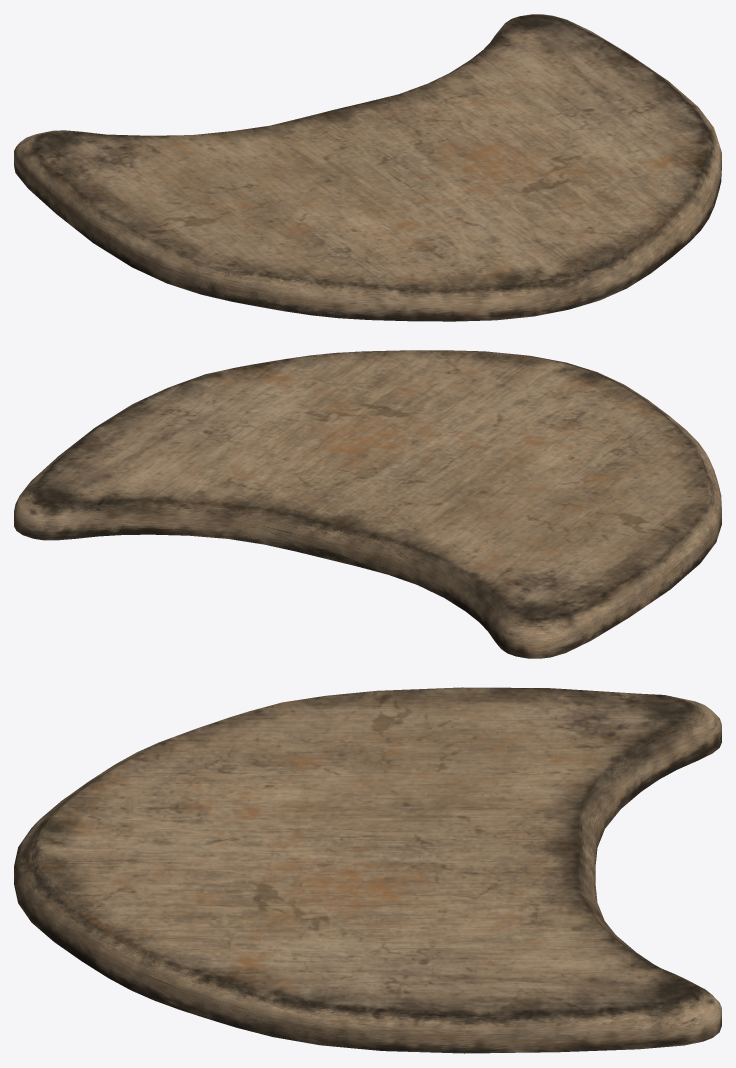
The model's file is Arena 1.fbx.
3 renders of one model, top to bottom at view 1: azimuth 30°, elevation 25°; view 2: azimuth 150°, elevation 25°; view 3: azimuth 270°, elevation 25°, orthographic. The views are drawn at different scales.
Visible parts, largest first — view 1: Platforma; view 2: Platforma; view 3: Platforma.
Boxes of the visible parts, <box> form: Platforma: <box>14,14,721,321</box>; Platforma: <box>14,350,721,658</box>; Platforma: <box>14,687,721,1053</box>.
Size of the model in its own units: 2703 by 126 by 2387.
